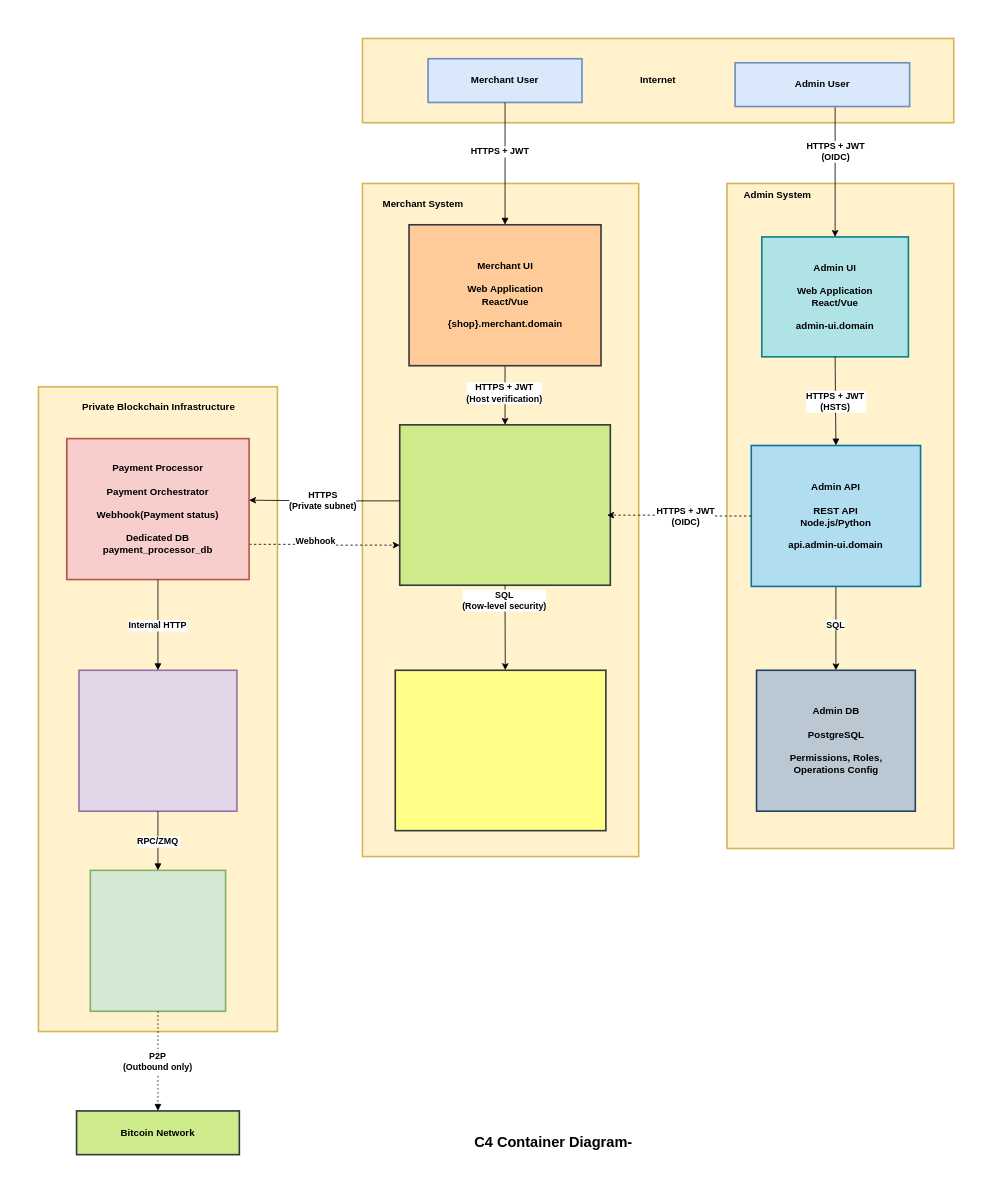
Image size: 1000x1194. Some labels were removed from this diagram. Here are the shapes that lost their labels. From the top down, the centre of each, then its label:
At point (505, 505): "Merchant API REST API Node.js/Python {shop-api}.merchant.domain".
At point (157, 740): "Indexer Blockchain Indexer Dedicated DB indexer_db".
At point (500, 750): "Merchant DB PostgreSQL Transactions, Products, Orders (merchant_id isolated)".
At point (157, 940): "Bitcoin Node Bitcoin Core Full Node NVMe Storage".
